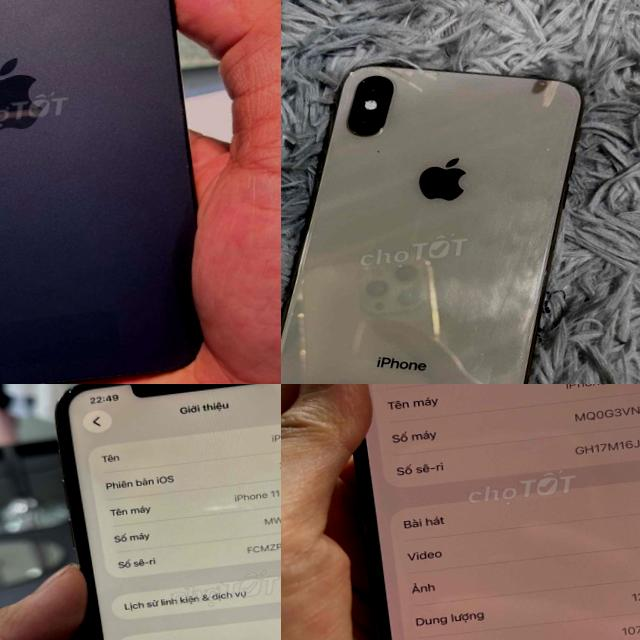scratch: (0, 358, 191, 384), (367, 145, 388, 157), (539, 142, 554, 156), (58, 384, 75, 396), (356, 76, 369, 86)
